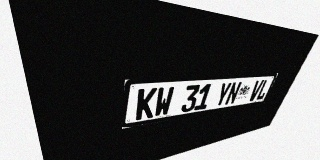1: (194, 83, 213, 111)
3: (180, 84, 201, 113)
K: (135, 88, 157, 120)
L: (255, 79, 272, 100)
N: (224, 81, 242, 105)
V: (247, 80, 264, 102)
W: (153, 86, 175, 117)
Y: (213, 82, 232, 107)
